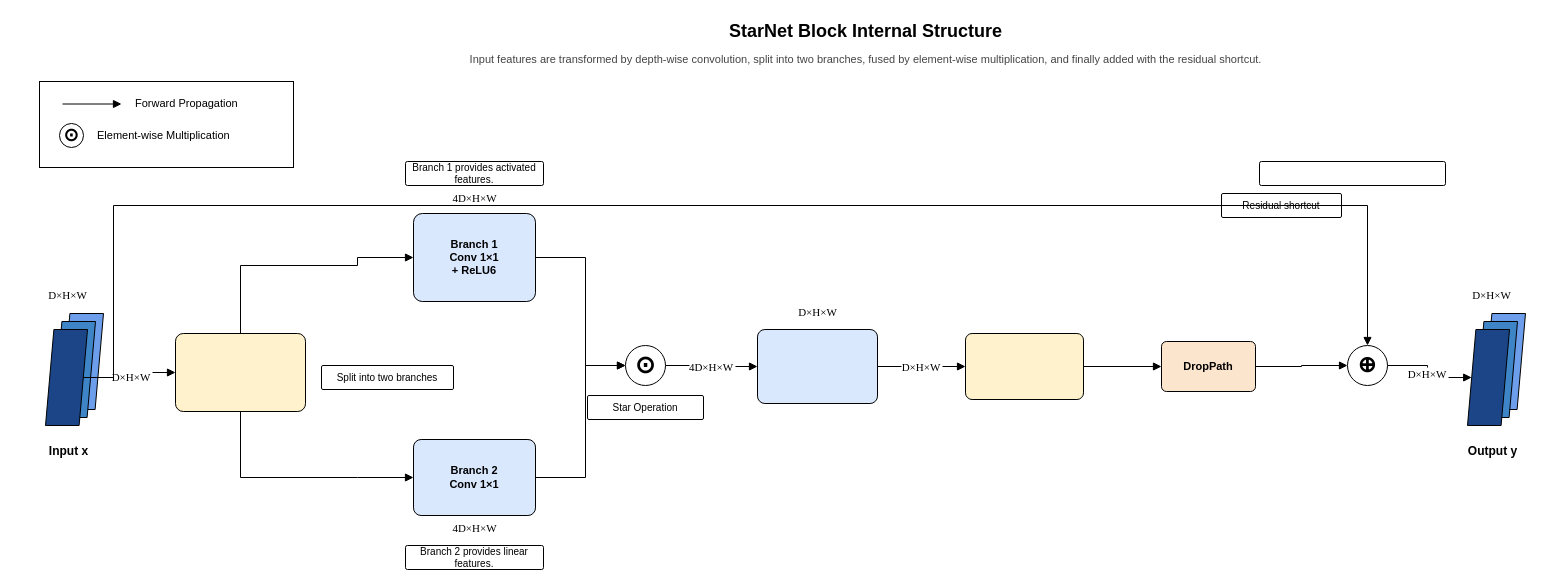
Some shapes in this 1558 by 587 pixel diagram are drawn without their labels. Each missing label, with the centre of its shape:
Conv 1×1 + BN: the point at 817,366
DWConv 7×7: the point at 1024,366
DWConv 7×7 + BN: the point at 240,372
Residual addition preserves original information.: the point at 1352,173
